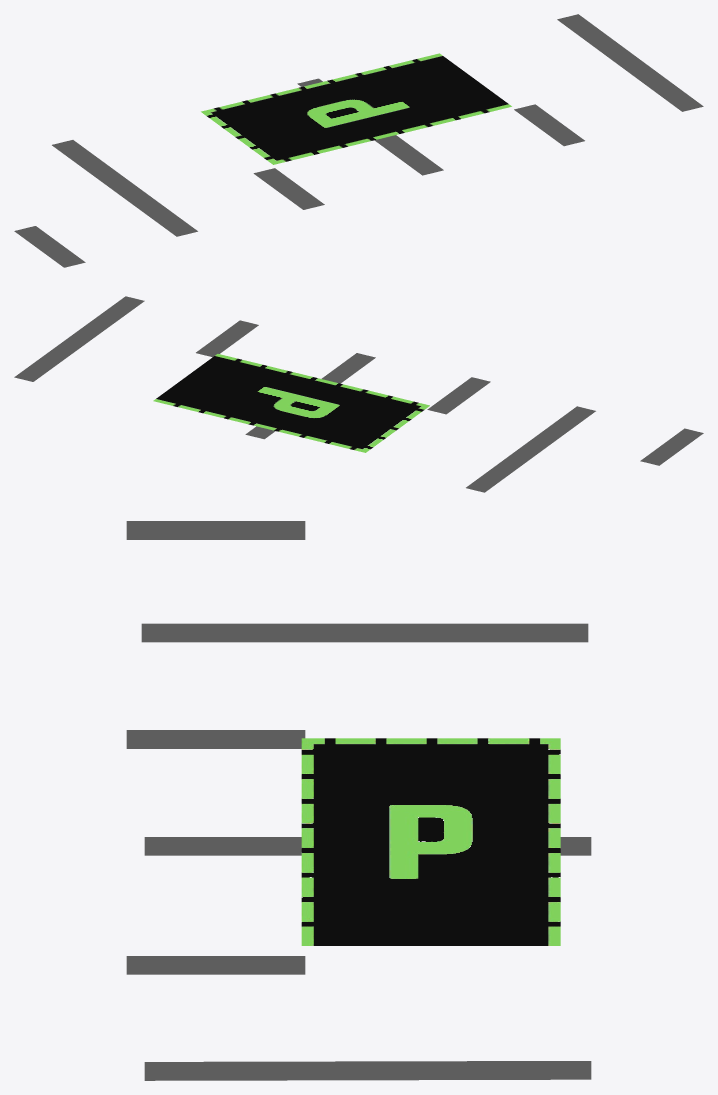
Rendered from lvl9.glb.
The picture shows the model from 3 angles, top to bottom: view 1: azimuth 30°, elevation 25°; view 2: azimuth 150°, elevation 25°; view 3: azimuth 270°, elevation 25°; orthographic projection. The views are drawn at different scales.
Parts seen in each view (by area): view 1: Lines, Plane (×6); view 2: Lines, Plane (×6); view 3: Lines, Plane (×6).
Boxes of the visible parts, left/top/right/bottom form: Lines: left=201, top=53, right=511, bottom=164; Plane (×6): left=14, top=14, right=703, bottom=267; Lines: left=153, top=354, right=429, bottom=452; Plane (×6): left=14, top=296, right=703, bottom=492; Lines: left=301, top=738, right=560, bottom=945; Plane (×6): left=126, top=521, right=591, bottom=1080.
Bounding box in the file's own units: 14.83 × 0.1002 × 5.2.
2 materials, 1 textured.
